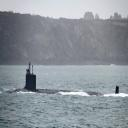submarine: (16, 63, 121, 95)
